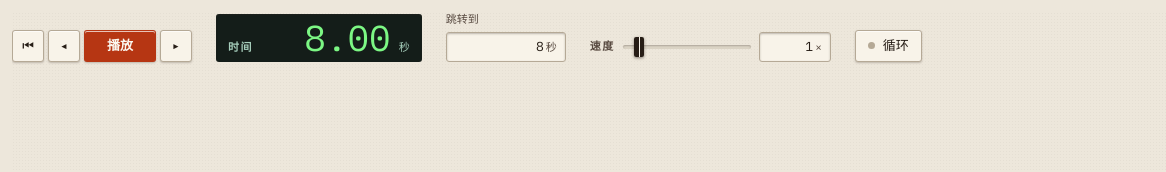
TransportBar › an invalid loop region is rejected with a reason and the previous one kept
Click the button "循环" at (888, 46), box left=855, top=30, right=922, bottom=62
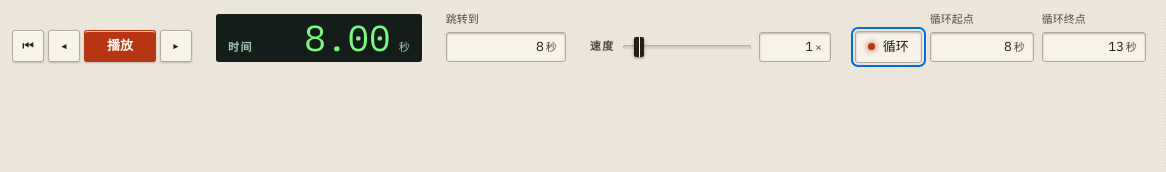
Replace the text in the field labelled "循环终点" with "1" at (1087, 47), box left=1051, top=35, right=1124, bottom=59
Then press Enter
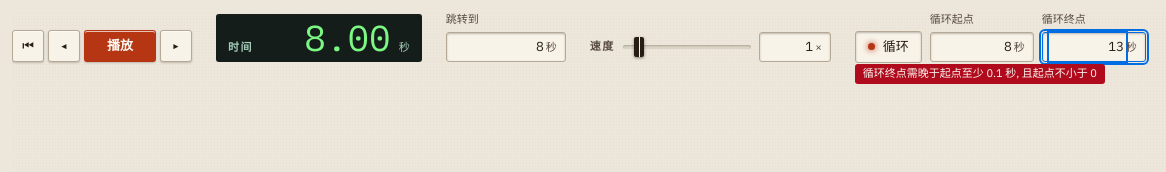
Result: the message shows "循环终点" at left=863, top=66, right=1097, bottom=80
